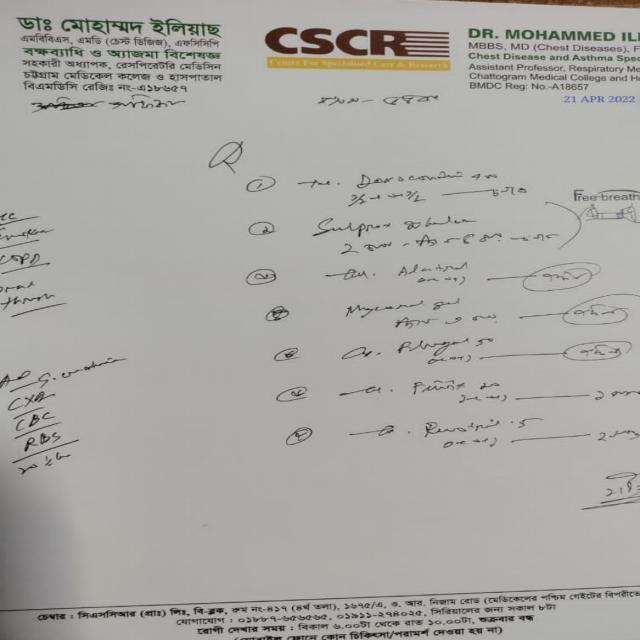Alatrol: (391, 255, 480, 279)
Doxocontin: (339, 163, 470, 192)
Finix: (403, 375, 470, 397)
Flugal: (391, 335, 473, 357)
Micoral: (334, 295, 432, 320)
Rivotril: (414, 413, 509, 436)
Sulprex: (302, 213, 398, 240)
